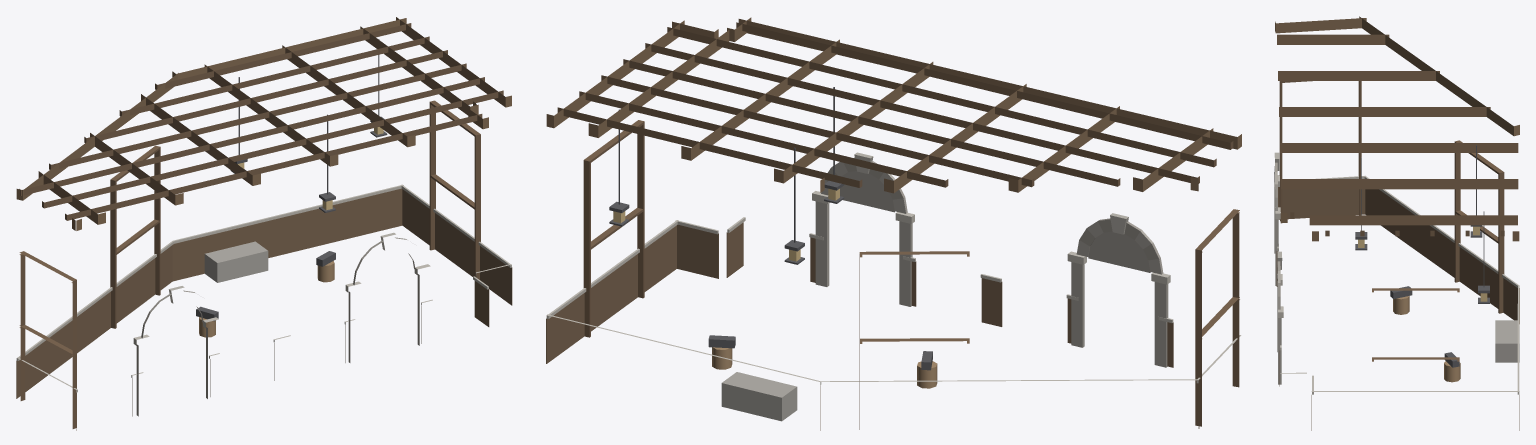
The model's file is interior_b021.glb.
3 views of the same model, side by side, from view 1: azimuth 30°, elevation 25°; view 2: azimuth 150°, elevation 25°; view 3: azimuth 270°, elevation 25° (orthographic). The views are drawn at different scales.
Parts seen in each view (by area): view 1: Interior_B021_mesh; view 2: Interior_B021_mesh; view 3: Interior_B021_mesh.
Boxes of the visible parts, <box> form: Interior_B021_mesh: <box>16,17,512,430</box>; Interior_B021_mesh: <box>546,17,1241,430</box>; Interior_B021_mesh: <box>1274,16,1519,430</box>.
Size of the model in its own units: 14.85 by 6.35 by 7.16.
